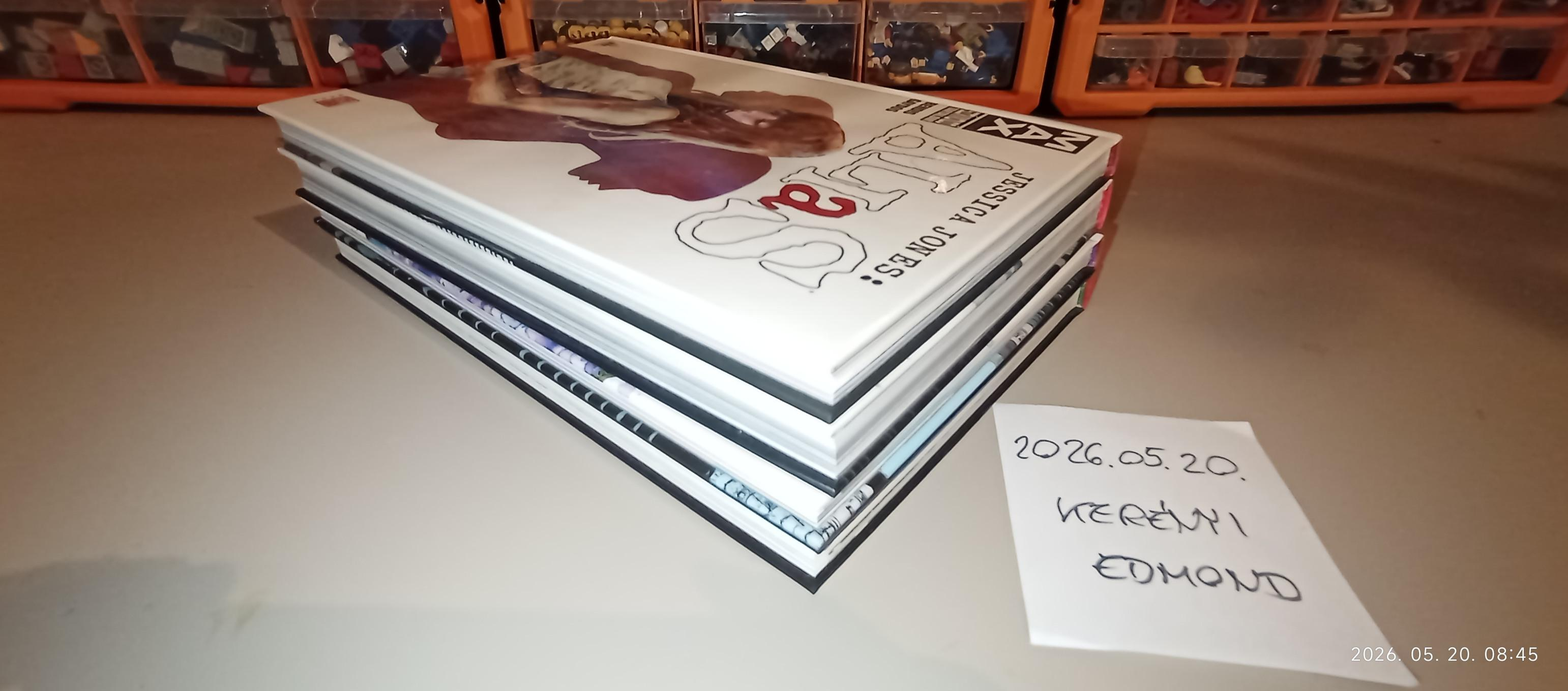comic: (228, 0, 1117, 452)
